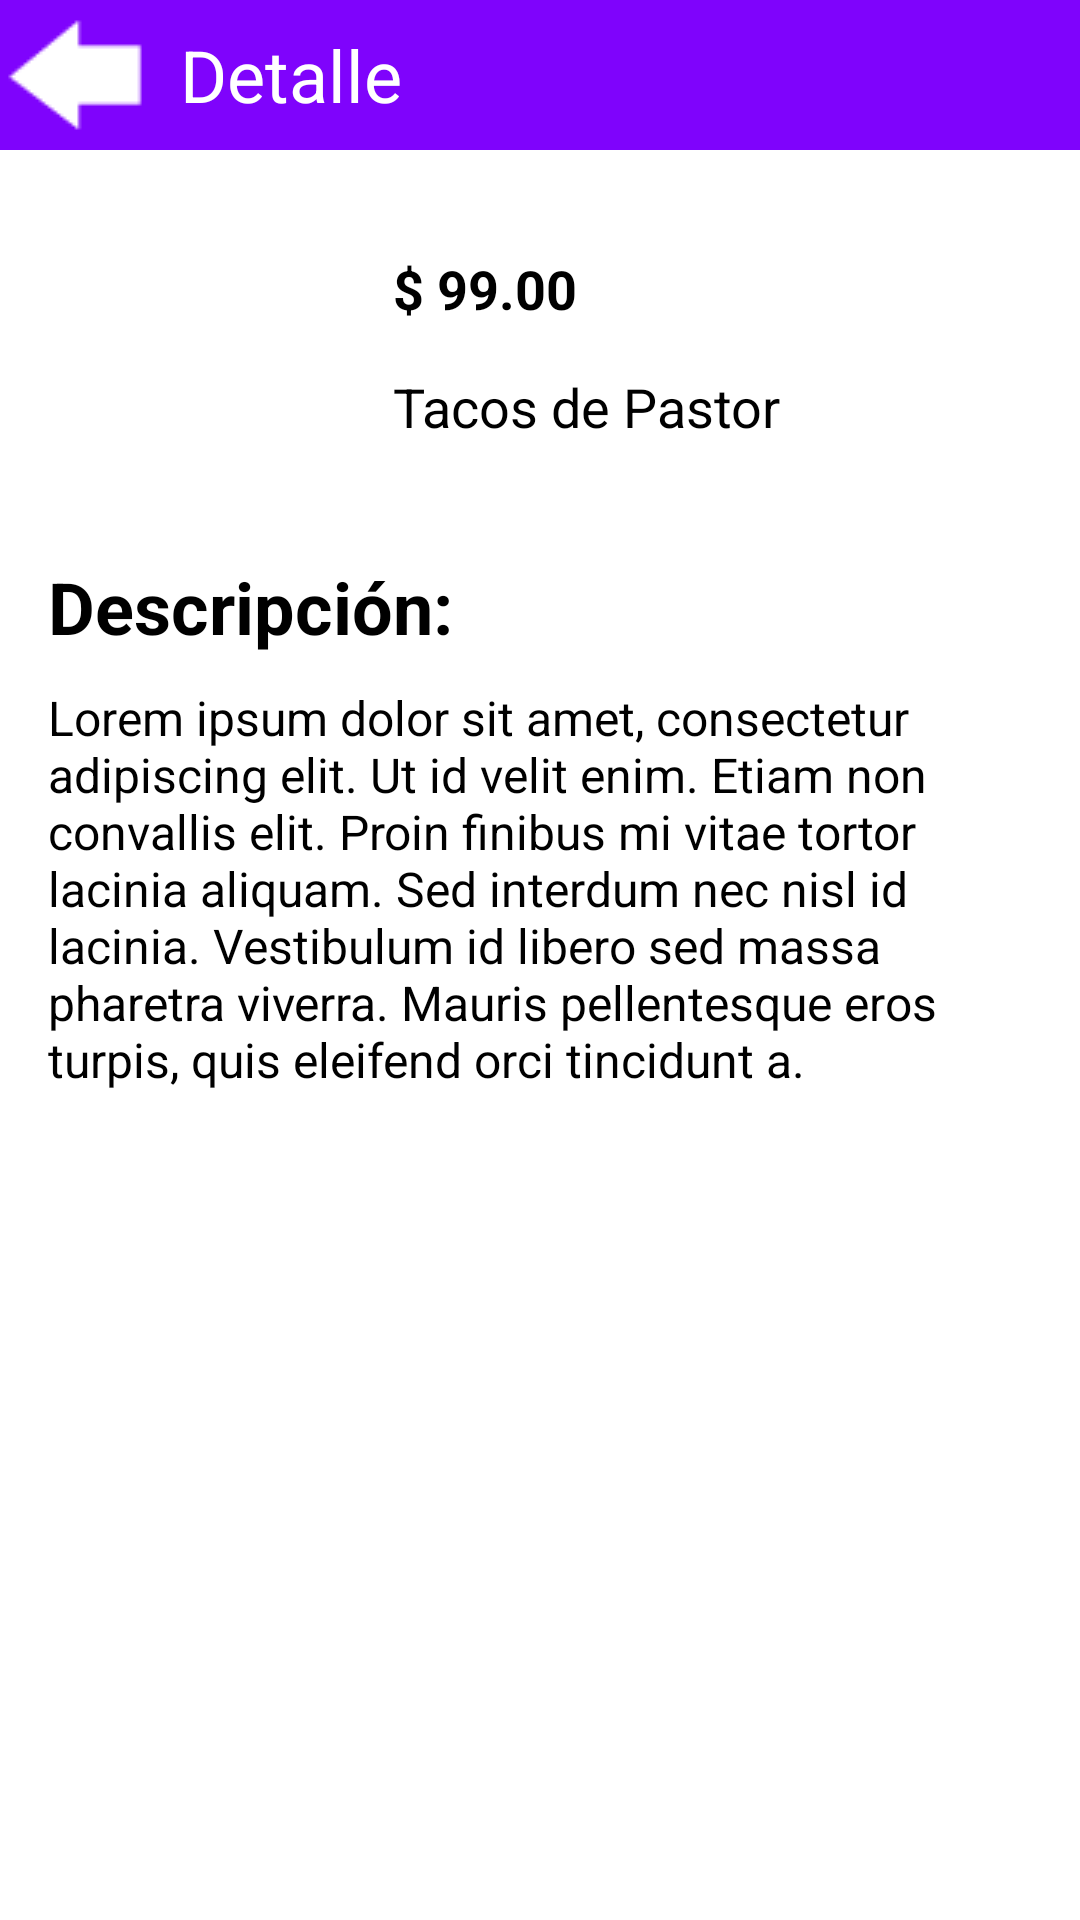

Where to tap for icons on this 1080 × 1920 app screen, as point (x, y):
back: point (75, 75)
